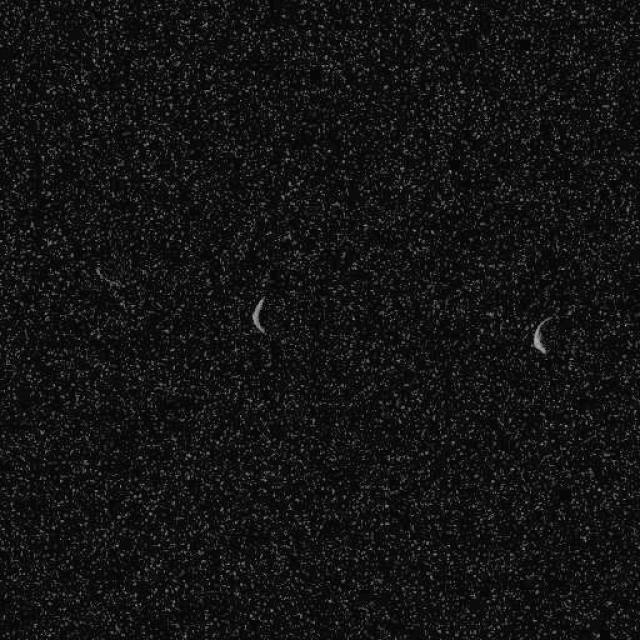D2: (530, 314, 554, 355), (250, 295, 268, 334)
